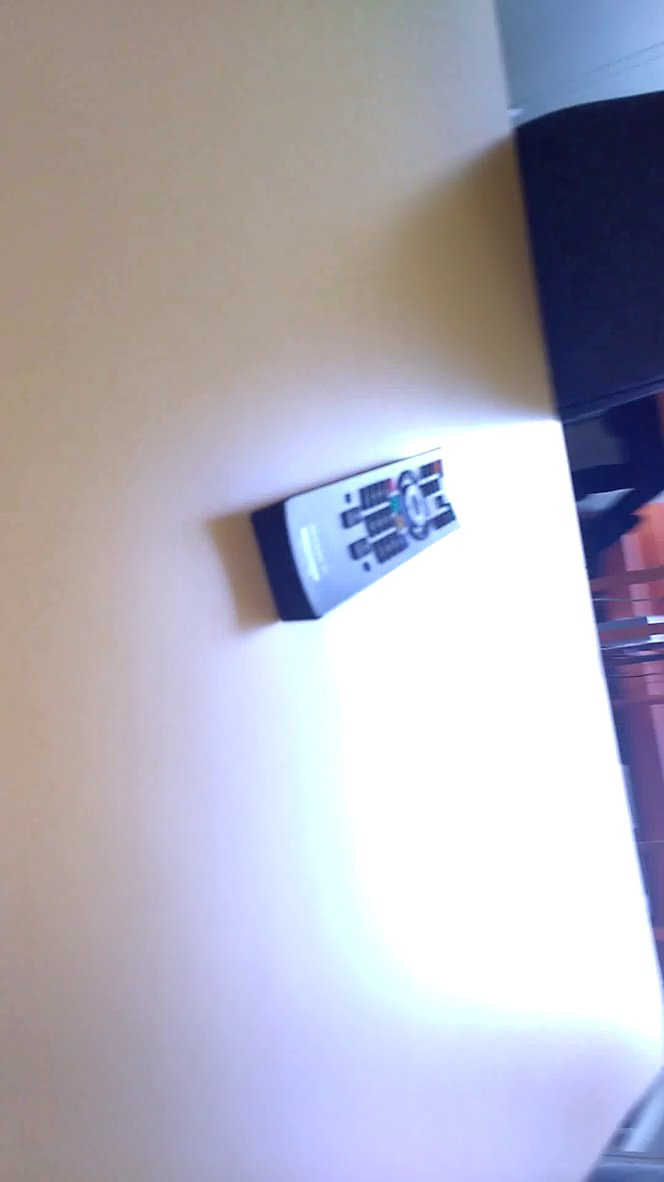remote: (237, 439, 486, 635)
